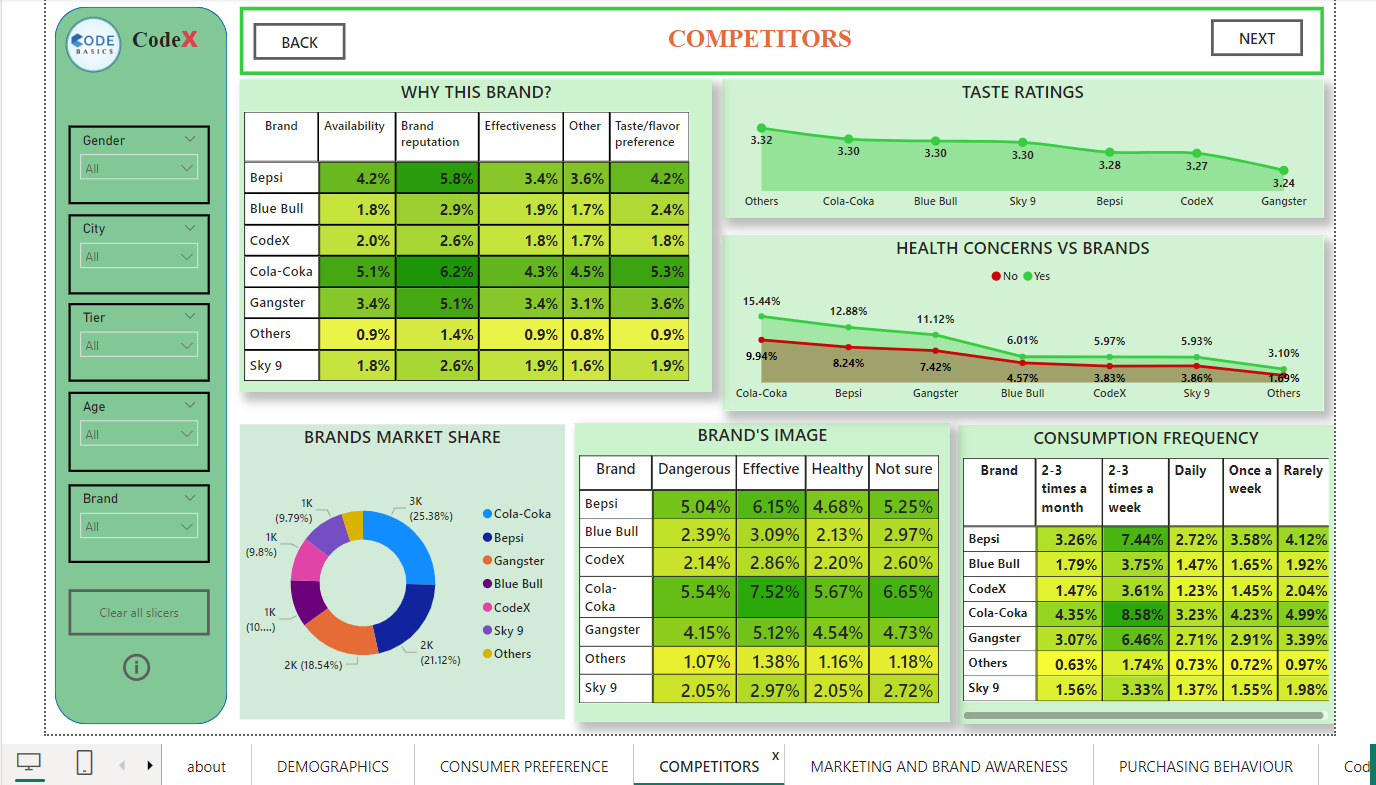

The dashboard page shown, as its layout file describes it:
{"tool":"powerbi","page":{"name":"COMPETITORS","canvas":[1400,800],"ordinal":3},"visuals":[{"type":"shape","box":[9.5,9.5,187.5,779.9],"z":0},{"type":"image","box":[0,13.6,103.3,74.7],"z":1000},{"type":"textbox","box":[88.3,21.7,90,53.3],"z":2000},{"type":"shape","box":[210,10,1178.6,74.3],"z":3000},{"type":"pivotTable","title":"BRAND''S IMAGE","fields":{"Rows":["survey_response_list.Current_brands"],"Columns":["survey_response_list.General_perception"],"Values":["Min(survey_response_list.General_perception)"]},"box":[574.7,462,407.6,324.7],"z":4000},{"type":"donutChart","title":"BRANDS MARKET SHARE","fields":{"Category":["survey_response_list.Current_brands"],"Y":["respondent_list.total count"]},"box":[210.6,463.3,353.3,320.7],"z":5000},{"type":"slicer","fields":{"Values":["respondent_list.Gender"]},"box":[24.5,138.6,153.5,85.6],"z":6000},{"type":"slicer","fields":{"Values":["response_city_list.City"]},"box":[24.5,235.1,153.5,87],"z":7000},{"type":"slicer","fields":{"Values":["response_city_list.Tier"]},"box":[24.5,331.5,153.5,85.6],"z":8000},{"type":"slicer","fields":{"Values":["respondent_list.Age"]},"box":[24.5,428,153.5,87],"z":9000},{"type":"slicer","fields":{"Values":["survey_response_list.Current_brands"]},"box":[24.5,528.5,153.5,85.6],"z":10000},{"type":"actionButton","box":[24.5,642.7,153.5,50.3],"z":11000},{"type":"actionButton","box":[78.8,707.9,99.2,39.4],"z":12000},{"type":"textbox","box":[671.2,24.5,466,48.9],"z":13000},{"type":"actionButton","box":[1265.7,22.9,100,40],"z":14000},{"type":"actionButton","box":[225.7,27.1,100,40],"z":15000},{"type":"stackedAreaChart","title":"TASTE RATINGS","fields":{"Category":["survey_response_list.Current_brands"],"Y":["Avg(survey_response_list.Taste_experience)"]},"box":[735.1,88.3,653.5,150.8],"z":16000},{"type":"areaChart","title":"HEALTH CONCERNS VS BRANDS","fields":{"Category":["survey_response_list.Current_brands"],"Y":["CountNonNull(survey_response_list.Health_concerns)"],"Series":["survey_response_list.Health_concerns"]},"box":[735,258.3,653.3,190],"z":17000},{"type":"pivotTable","title":"WHY THIS BRAND?","fields":{"Rows":["survey_response_list.Current_brands"],"Columns":["survey_response_list.Reasons_for_choosing_brands"],"Values":["Min(survey_response_list.Reasons_for_choosing_brands)"]},"box":[210.6,88.3,513.6,339.7],"z":18000},{"type":"pivotTable","title":"CONSUMPTION FREQUENCY ","fields":{"Rows":["survey_response_list.Current_brands"],"Columns":["survey_response_list.Consume_frequency"],"Values":["Min(survey_response_list.General_perception)"]},"box":[991.9,464.7,407.6,324.7],"z":19000}]}

Visuals, with their boxes on the page's 1400x800 design canvas (x1, y1, x2, y2). These are canvas units, not pixel positions in the 1376x785 screenshot, which may show the page scaled, cropped or inside an application window:
shape: (left=10, top=10, right=197, bottom=789)
image: (left=0, top=14, right=103, bottom=88)
textbox: (left=88, top=22, right=178, bottom=75)
shape: (left=210, top=10, right=1389, bottom=84)
"BRAND''S IMAGE" pivotTable: (left=575, top=462, right=982, bottom=787)
"BRANDS MARKET SHARE" donutChart: (left=211, top=463, right=564, bottom=784)
slicer - respondent_list.Gender: (left=24, top=139, right=178, bottom=224)
slicer - response_city_list.City: (left=24, top=235, right=178, bottom=322)
slicer - response_city_list.Tier: (left=24, top=332, right=178, bottom=417)
slicer - respondent_list.Age: (left=24, top=428, right=178, bottom=515)
slicer - survey_response_list.Current_brands: (left=24, top=528, right=178, bottom=614)
actionButton: (left=24, top=643, right=178, bottom=693)
actionButton: (left=79, top=708, right=178, bottom=747)
textbox: (left=671, top=24, right=1137, bottom=73)
actionButton: (left=1266, top=23, right=1366, bottom=63)
actionButton: (left=226, top=27, right=326, bottom=67)
"TASTE RATINGS" stackedAreaChart: (left=735, top=88, right=1389, bottom=239)
"HEALTH CONCERNS VS BRANDS" areaChart: (left=735, top=258, right=1388, bottom=448)
"WHY THIS BRAND?" pivotTable: (left=211, top=88, right=724, bottom=428)
"CONSUMPTION FREQUENCY " pivotTable: (left=992, top=465, right=1400, bottom=789)
